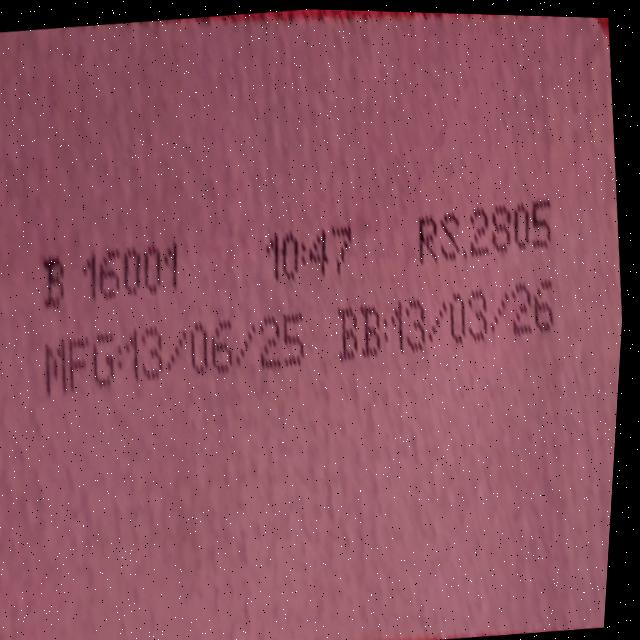BB: (330, 273, 566, 378)
Batch: (35, 219, 190, 318)
MFG: (36, 305, 318, 412)
RS: (409, 193, 562, 283)
TimeStamp: (262, 208, 371, 295)
